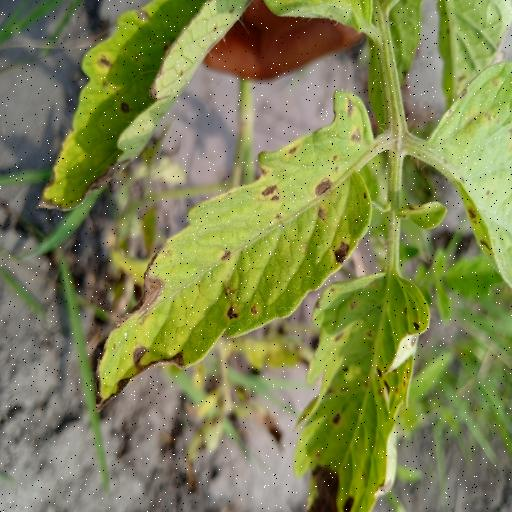Tomato_Brown_Spots: (93, 84, 395, 412), (36, 0, 253, 219), (294, 266, 435, 512)
